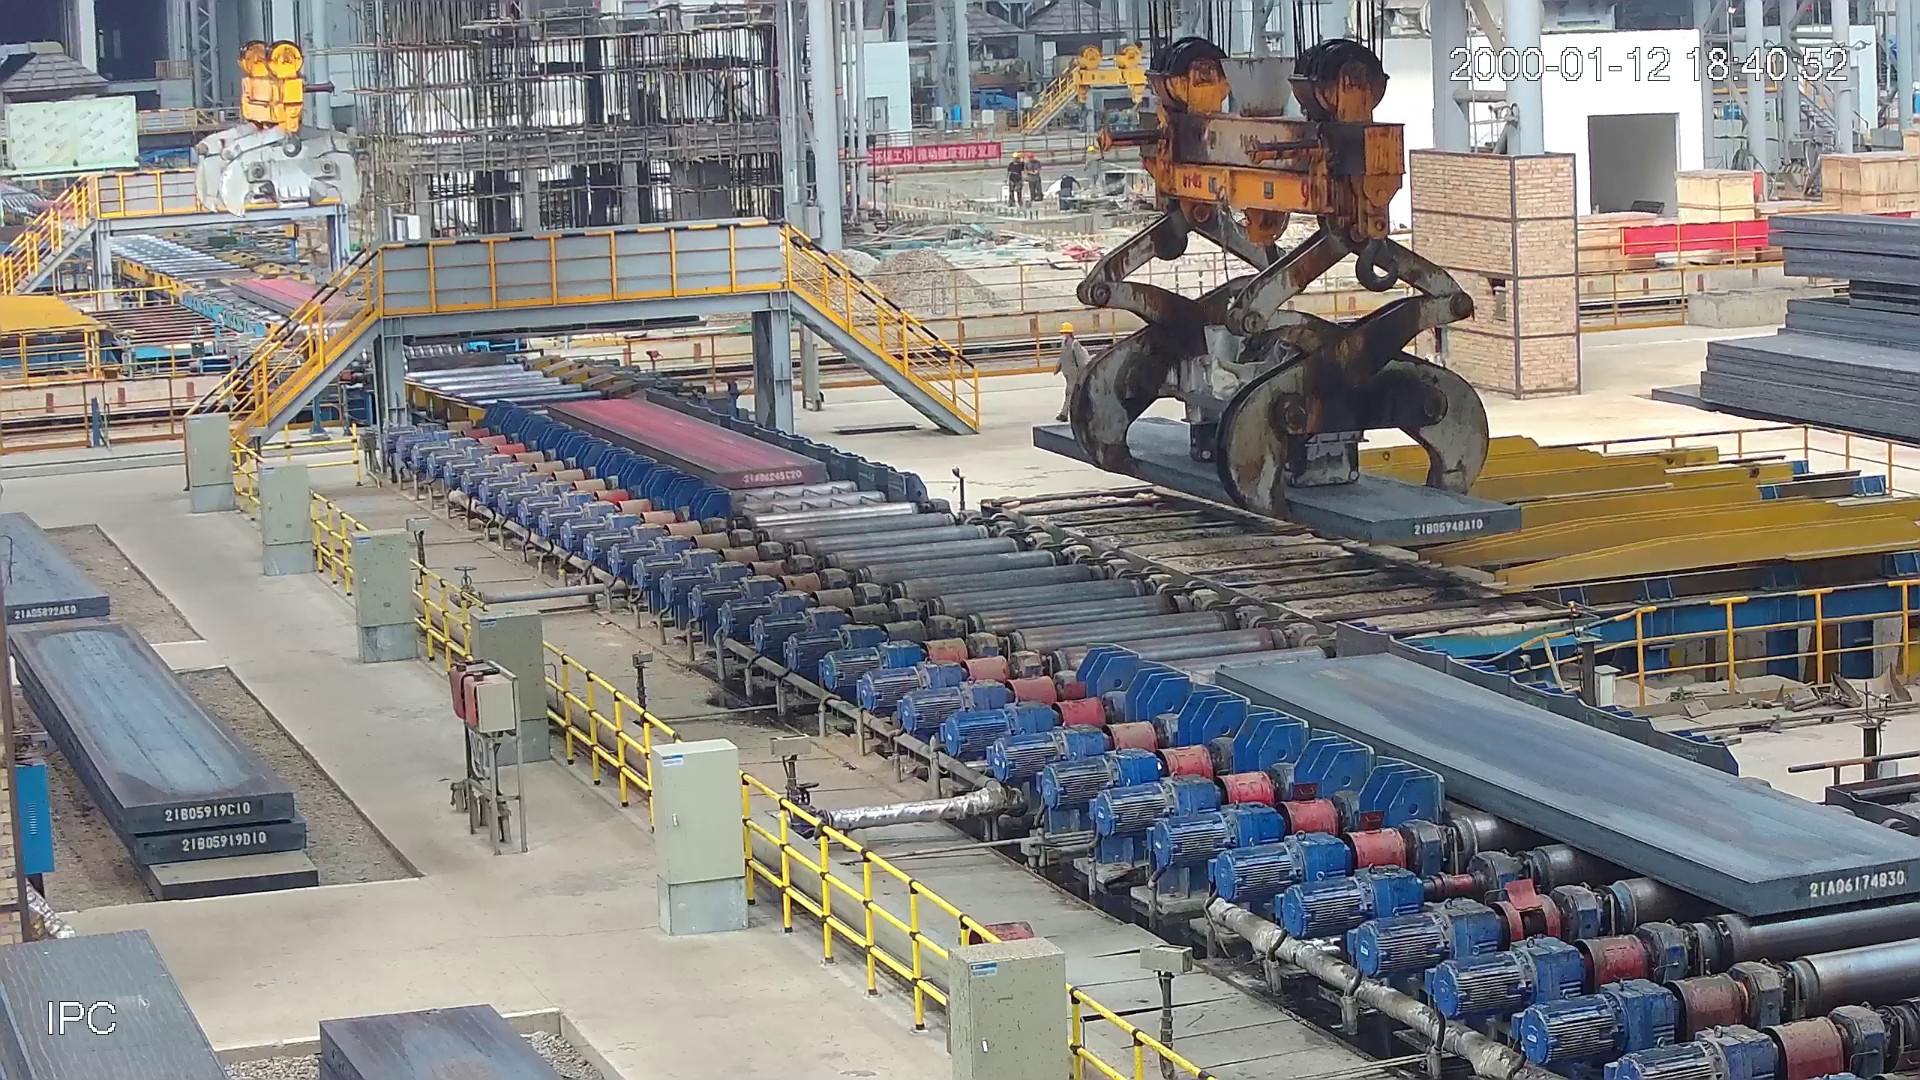crane: (179, 26, 375, 225)
craneandslab: (1025, 25, 1540, 551)
slab: (1208, 645, 1920, 928), (541, 388, 832, 488), (225, 274, 375, 320)
